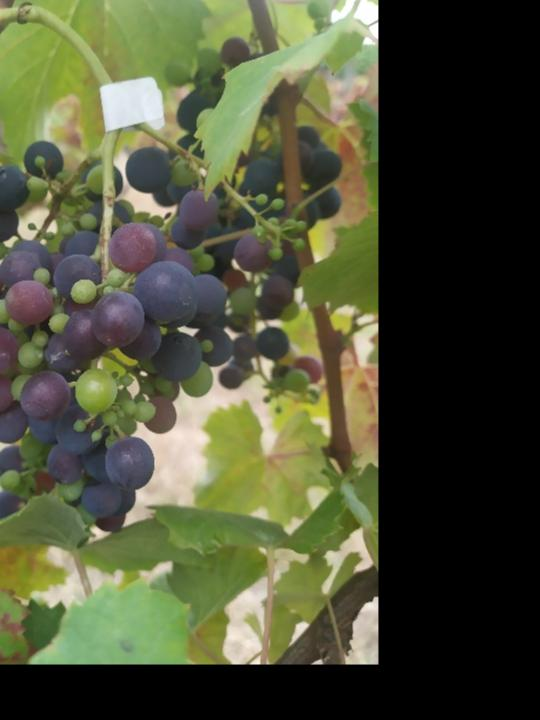grape: (0, 132, 234, 535)
